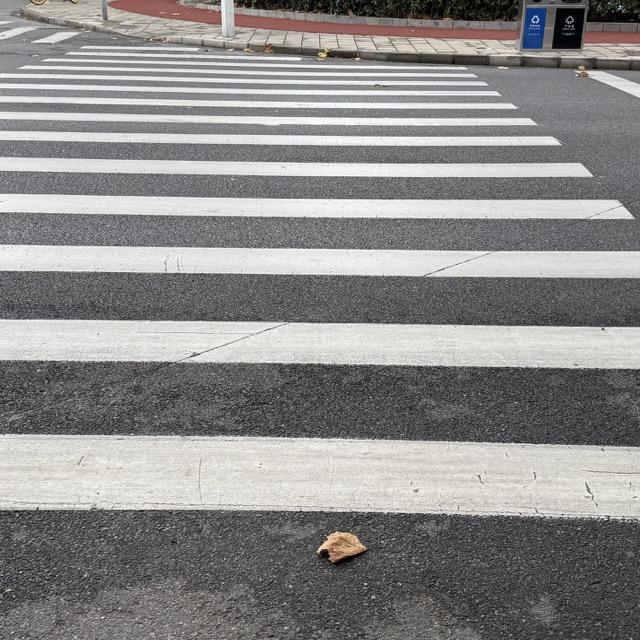curb: (144, 36, 639, 71), (19, 9, 132, 39)
